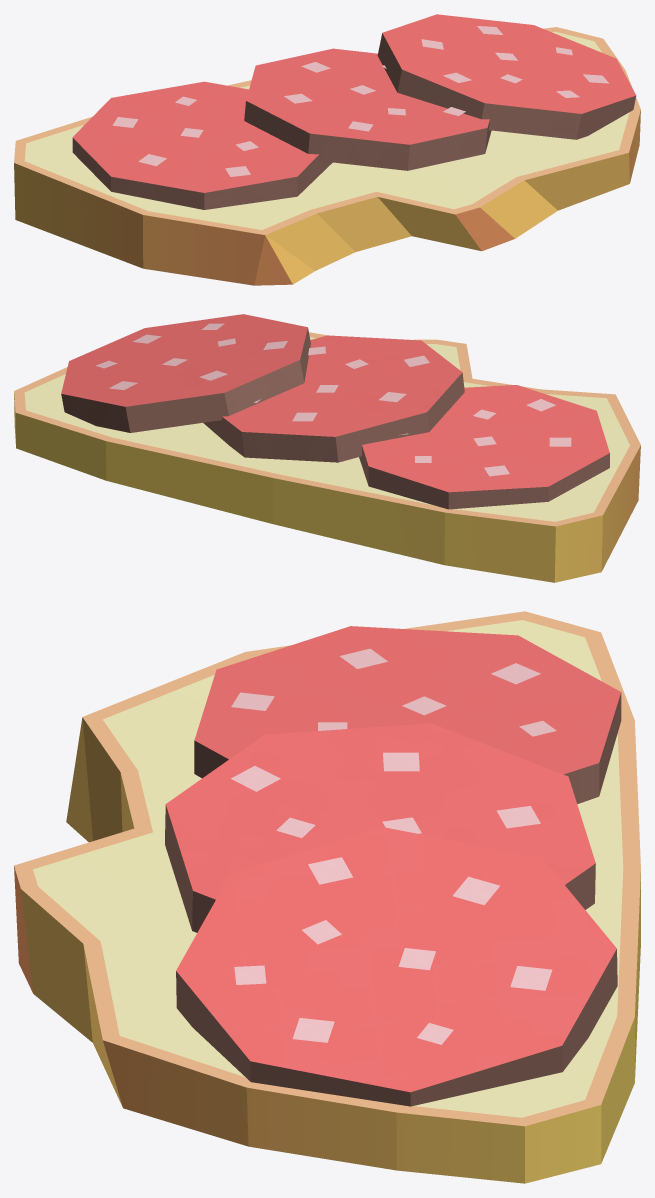
Rendered from sandwich_001.obj.
3 renders of one model, top to bottom at view 1: azimuth 30°, elevation 25°; view 2: azimuth 150°, elevation 25°; view 3: azimuth 270°, elevation 25°, orthographic. The views are drawn at different scales.
Parts seen in each view (by area): view 1: sandwich_001; view 2: sandwich_001; view 3: sandwich_001.
Boxes of the visible parts, x1,y1,x2,y2 form: sandwich_001: (14, 14, 640, 285); sandwich_001: (14, 314, 640, 582); sandwich_001: (14, 611, 640, 1183).
Size of the model in its own units: 0.1395 by 0.022 by 0.0766.
